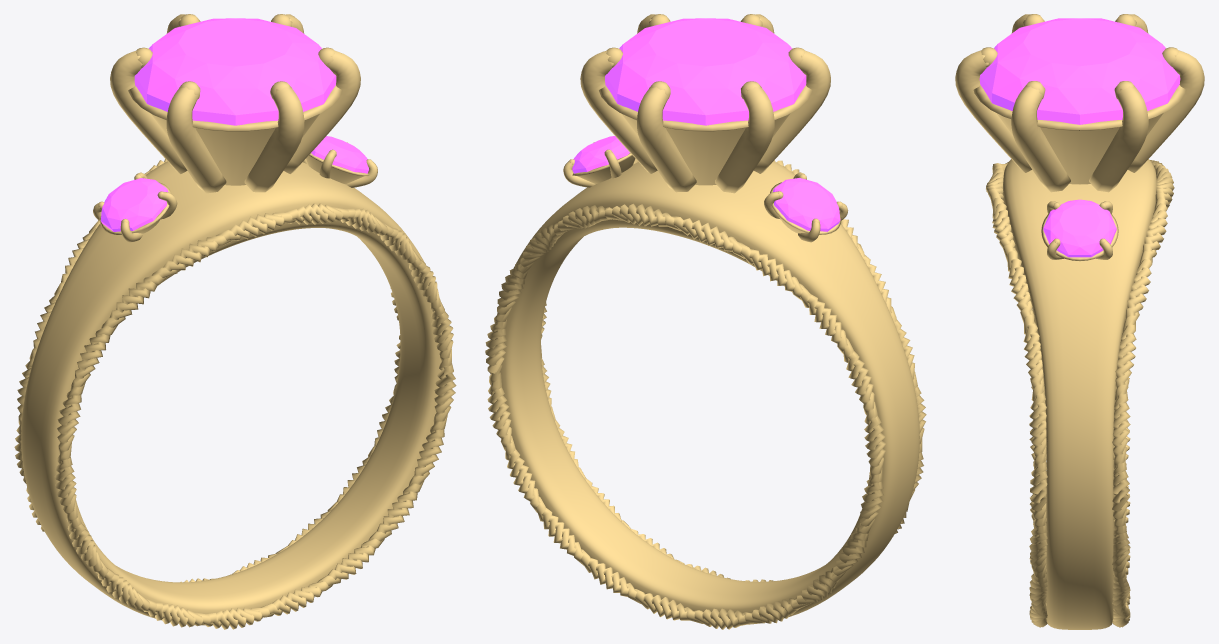
The model's file is jewel_ring_epic.glb.
3 renders of one model, left to right at view 1: azimuth 30°, elevation 25°; view 2: azimuth 150°, elevation 25°; view 3: azimuth 270°, elevation 25°, orthographic.
Visible parts, largest first — view 1: jewel_ring_epic; view 2: jewel_ring_epic; view 3: jewel_ring_epic.
Part boxes in pixels (x1,y1,x2,y2): jewel_ring_epic: (14,14,456,629); jewel_ring_epic: (485,14,926,629); jewel_ring_epic: (955,14,1204,629).
Bounding box in the file's own units: 2.29 × 3.08 × 1.23.
